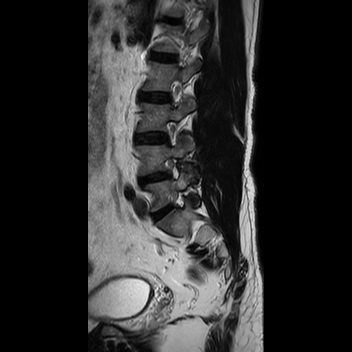LFS0: (161, 150, 186, 184), (159, 114, 184, 148)
